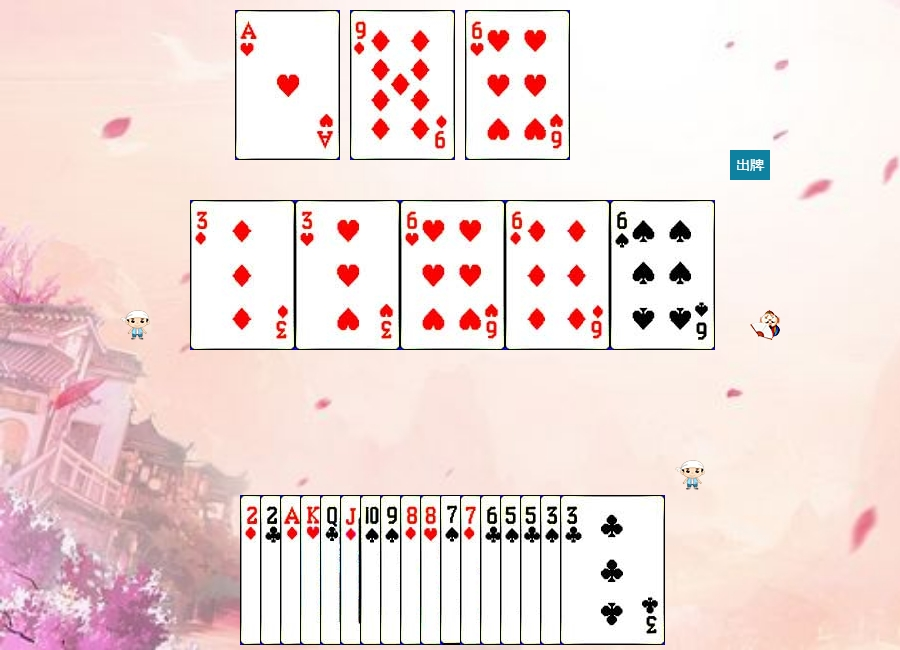10~4: (360, 495, 465, 645)
11~1: (340, 495, 445, 645)
12~2: (320, 495, 425, 645)
13~3: (300, 495, 405, 645)
14~1: (280, 495, 385, 645)
14~3: (235, 10, 340, 160)
15~1: (240, 495, 345, 645)
15~2: (260, 495, 365, 645)
3~1: (190, 200, 295, 350)
3~2: (560, 495, 665, 645)
3~3: (295, 200, 400, 350)
3~4: (540, 495, 645, 645)
5~2: (520, 495, 625, 645)
5~4: (500, 495, 605, 645)
6~1: (505, 200, 610, 350)
6~2: (480, 495, 585, 645)
6~3: (465, 10, 570, 160), (400, 200, 505, 350)
6~4: (610, 200, 715, 350)
7~1: (460, 495, 565, 645)
7~4: (440, 495, 545, 645)
8~1: (400, 495, 505, 645)
8~3: (420, 495, 525, 645)
9~1: (350, 10, 455, 160)
9~4: (380, 495, 485, 645)
